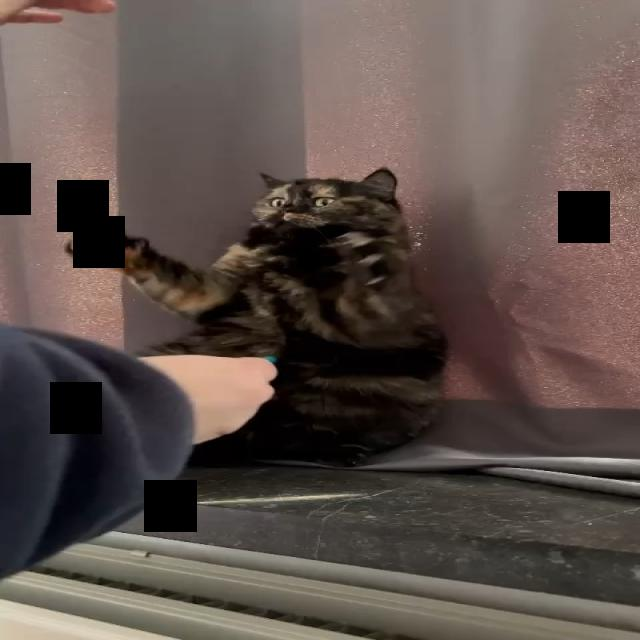authorized: (63, 166, 449, 468)
